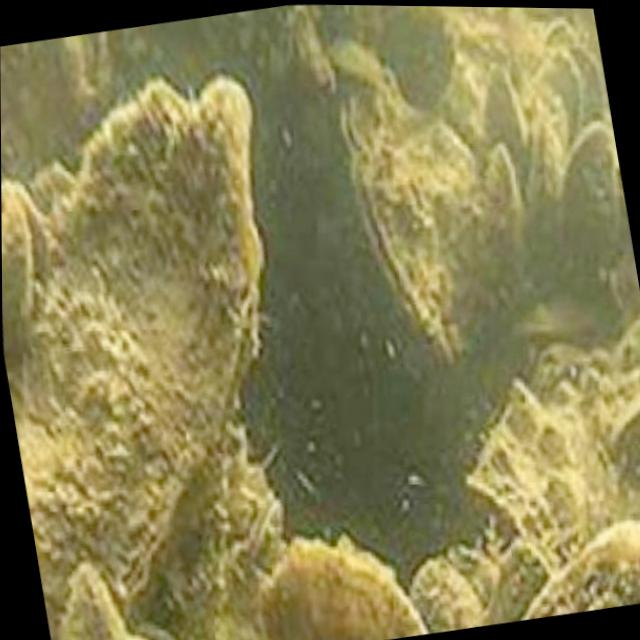Oyster-Closed: (336, 77, 489, 377), (486, 139, 526, 289), (485, 56, 531, 185), (522, 119, 556, 261)
Oyster-Indeterminate: (4, 89, 255, 640), (247, 548, 425, 640), (54, 554, 176, 640), (534, 526, 640, 619), (559, 125, 618, 270), (377, 6, 451, 105), (533, 47, 586, 149), (566, 48, 612, 129), (540, 19, 574, 48)
Oyster-Open: (1, 177, 49, 359)
